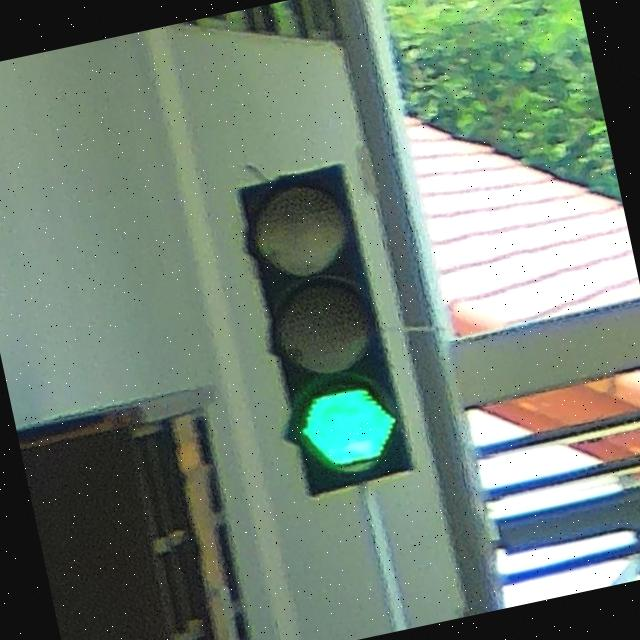green_light: (230, 162, 418, 502)
